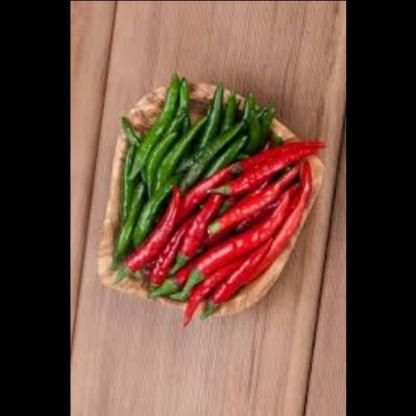hot pepper: (106, 70, 328, 328)
